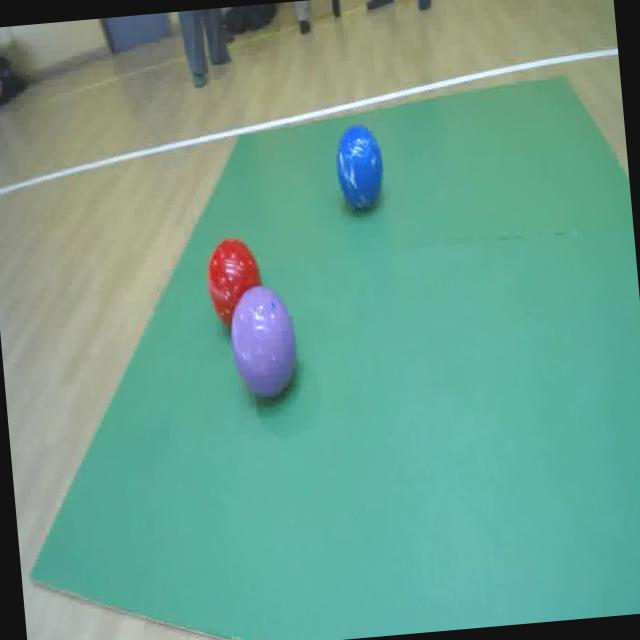blue_ball: (332, 122, 385, 209)
purple_ball: (227, 282, 301, 398)
red_ball: (204, 234, 268, 330)
